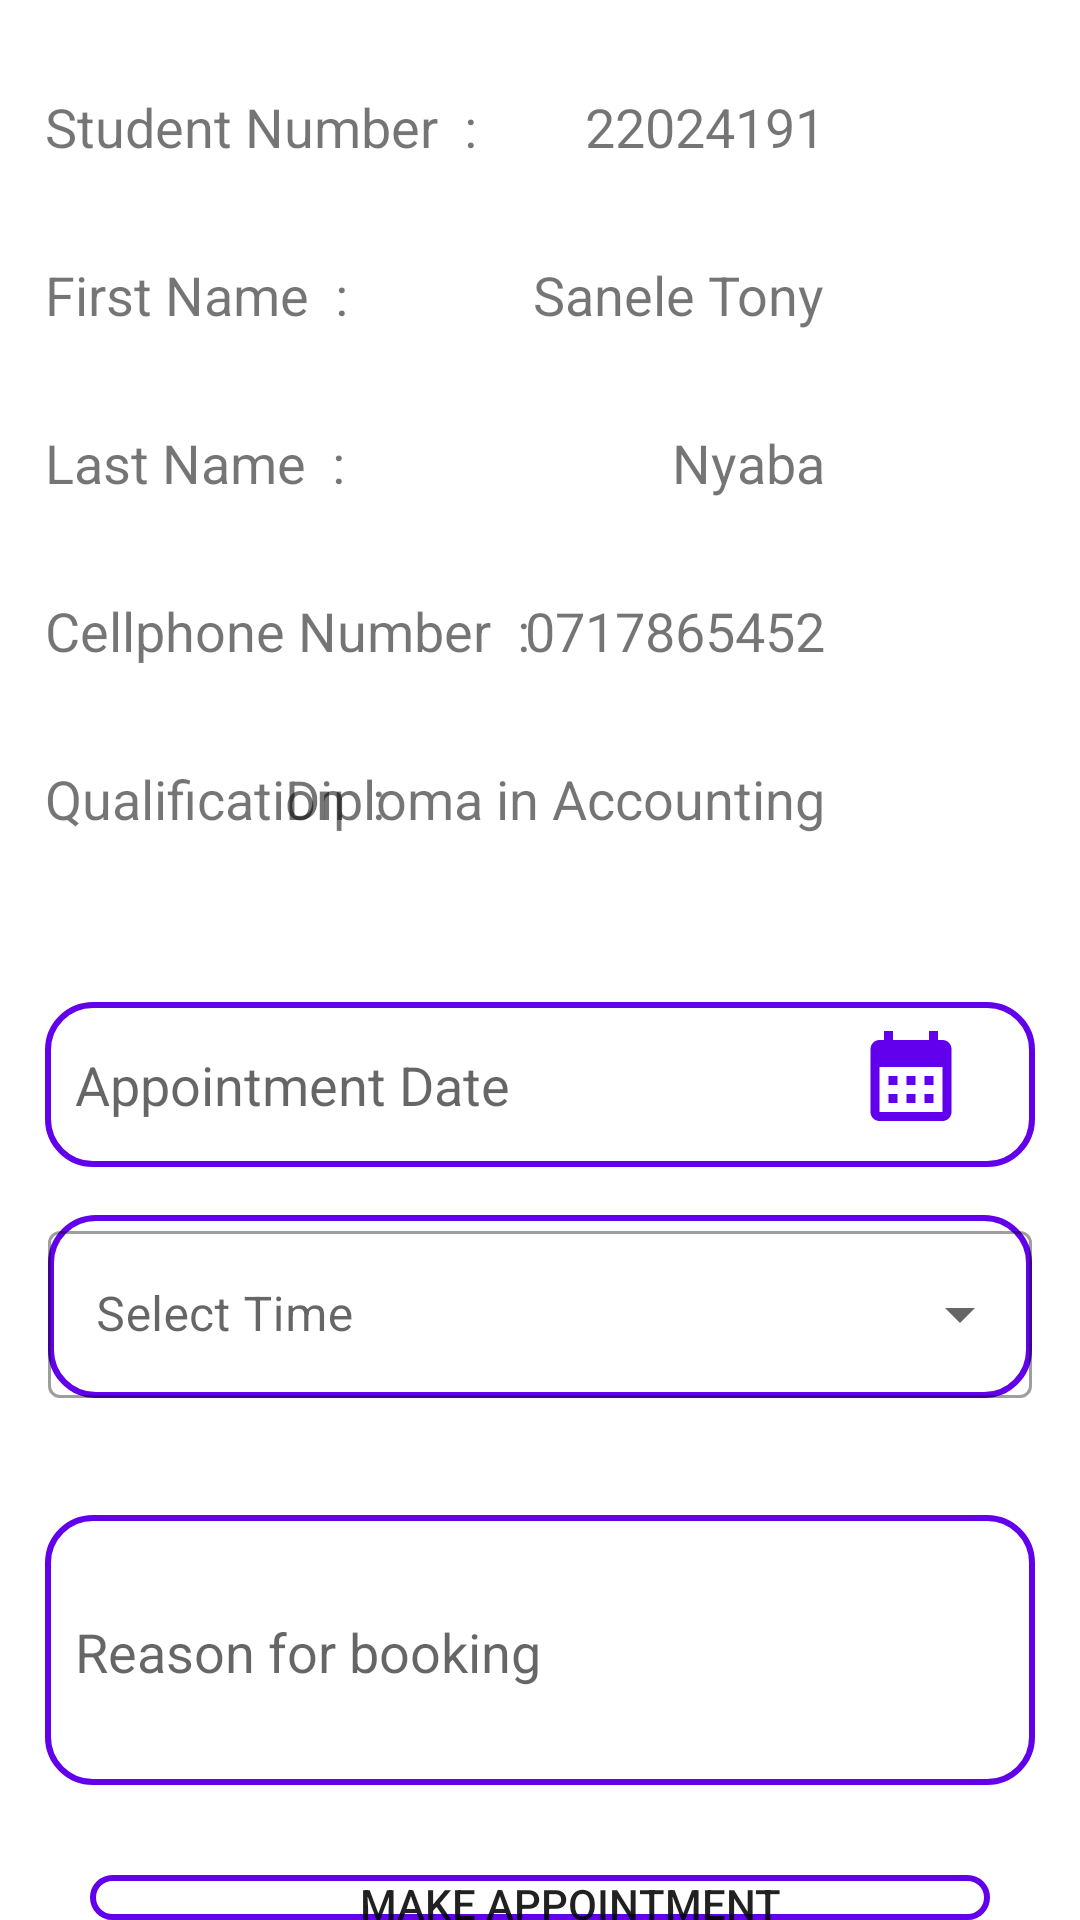

Locate icon controls on the screen. Image size 1080*1920, boxes as rect(x1, y1, x2, y2).
calendar month: rect(870, 1031, 952, 1121)
